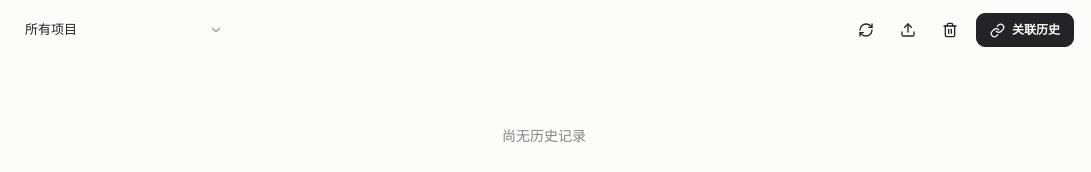
Scenario: native cleanup quietly removes unavailable list entries without changing their index
The width and height of the screenshot is (1091, 172).
Expected: the text "尚无历史记录" is shown, [502,126,586,145]
Expected: the text "Saved discussion" is not shown
Click the button named "刷新" at (866, 30), box [850,14,882,46]
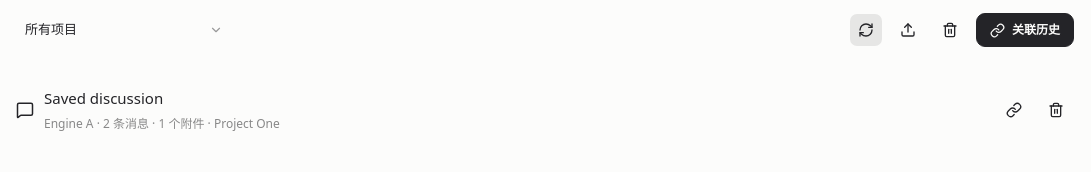
Expected: the button "Saved discussion" is shown, [44,87,163,110]
